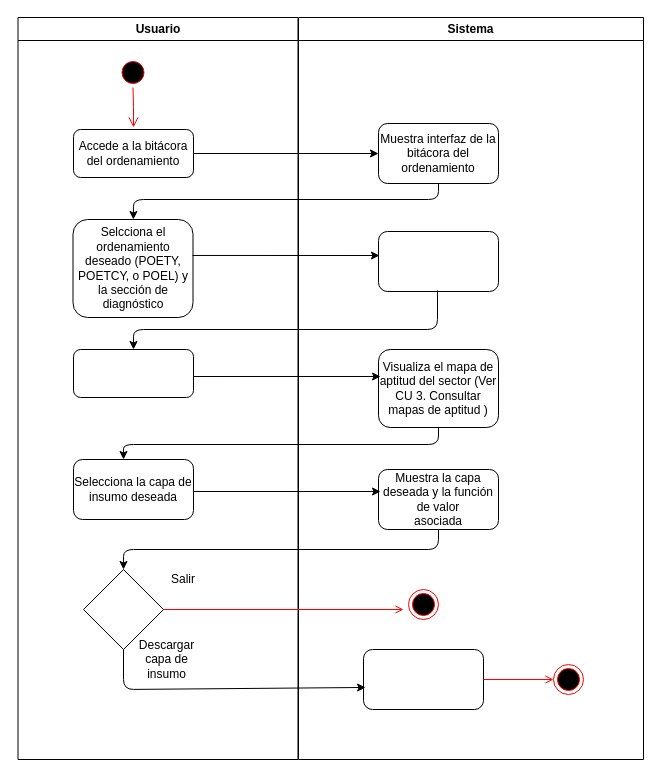
This 661x777 diagram has some shape labels left out. The shapes that lost their labels are listed below. From the top down, each one's centre as x and y in pixels, then its label:
(x=438, y=261): Muestra una lista de sectores
(x=133, y=373): Elige el sector de interés
(x=123, y=609): Acción
(x=423, y=679): Descarga la capa geográfica y los metadatos asociados
